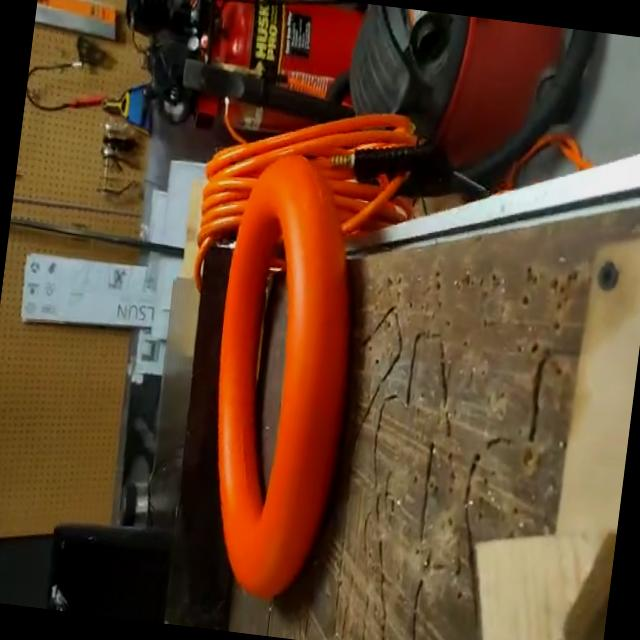note: (190, 150, 370, 610)
